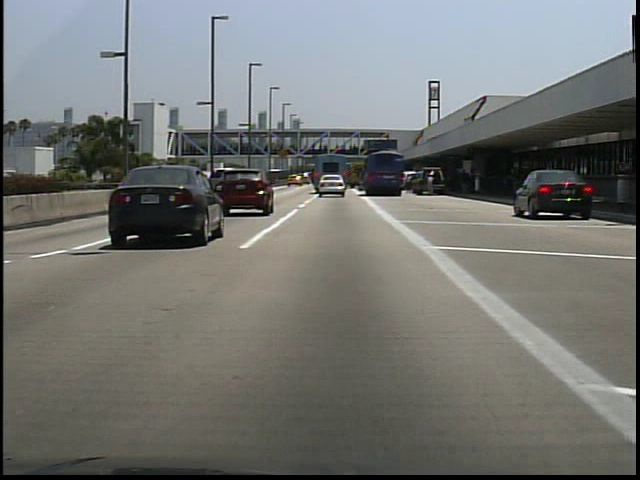person: (455, 165, 471, 200), (425, 173, 438, 199)
